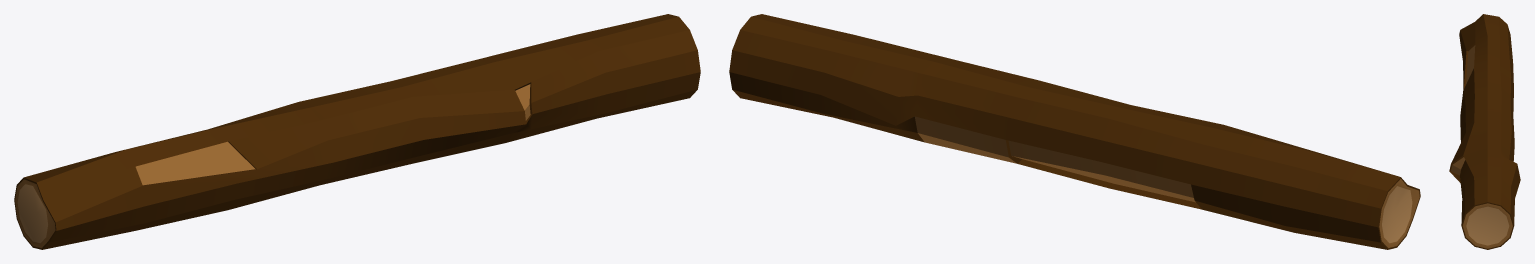
Rendered from M_Sem04_Environment_Log_SBoewing.fbx.
3 views of the same model, side by side, from view 1: azimuth 30°, elevation 25°; view 2: azimuth 150°, elevation 25°; view 3: azimuth 270°, elevation 25° (orthographic). The views are drawn at different scales.
Parts seen in each view (by area): view 1: pCylinder1; view 2: pCylinder1; view 3: pCylinder1.
Part boxes in pixels (x1,y1,x2,y2): pCylinder1: [14, 14, 700, 249]; pCylinder1: [729, 14, 1420, 249]; pCylinder1: [1449, 14, 1520, 249].
Bounding box in the file's own units: 374 × 45.75 × 59.03.
